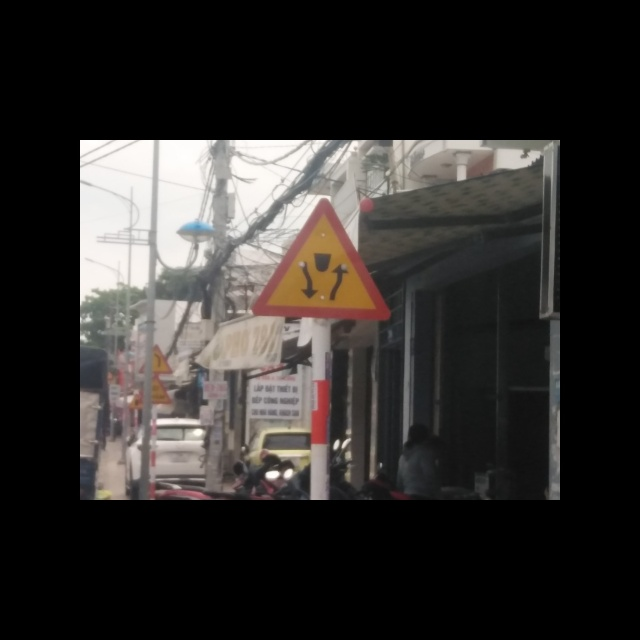Đường đôi: (251, 199, 393, 324)
